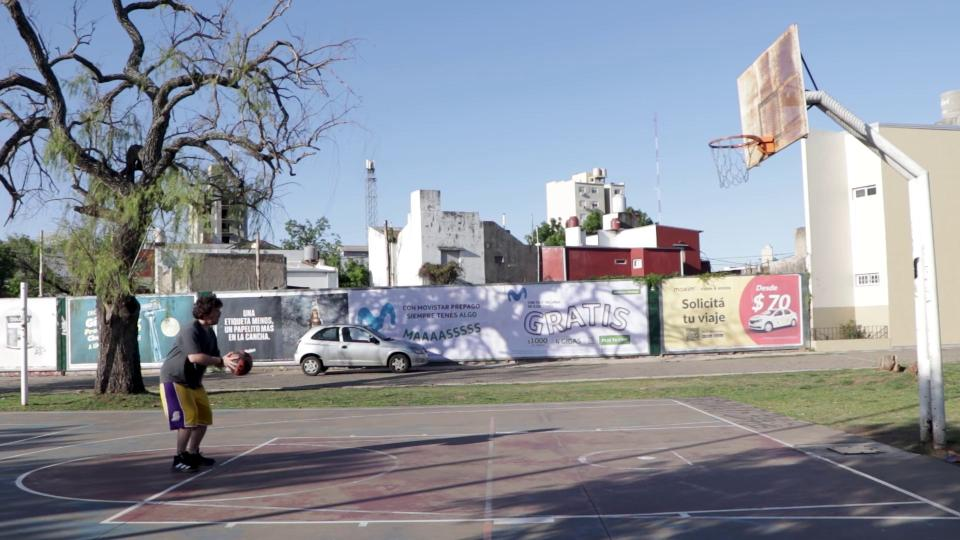hoop: (707, 134, 764, 149)
